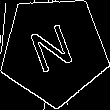N_S: (27, 19, 81, 81)
